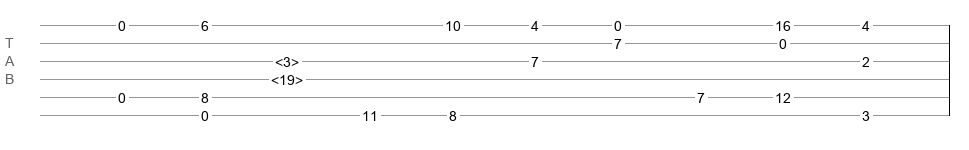0: (118, 18, 126, 28), (118, 90, 126, 100), (201, 108, 209, 118), (614, 18, 622, 28), (779, 36, 787, 46)
10: (445, 18, 461, 28)
11: (362, 108, 378, 118)
12: (775, 90, 791, 100)
16: (775, 18, 791, 28)
2: (862, 54, 870, 64)
3: (862, 108, 870, 118)
4: (531, 18, 539, 28), (862, 18, 870, 28)
6: (201, 18, 209, 28)
7: (531, 54, 539, 64), (614, 36, 622, 46), (697, 90, 705, 100)
8: (201, 90, 209, 100), (449, 108, 457, 118)
harmonic: (271, 72, 303, 82), (275, 54, 299, 64)
